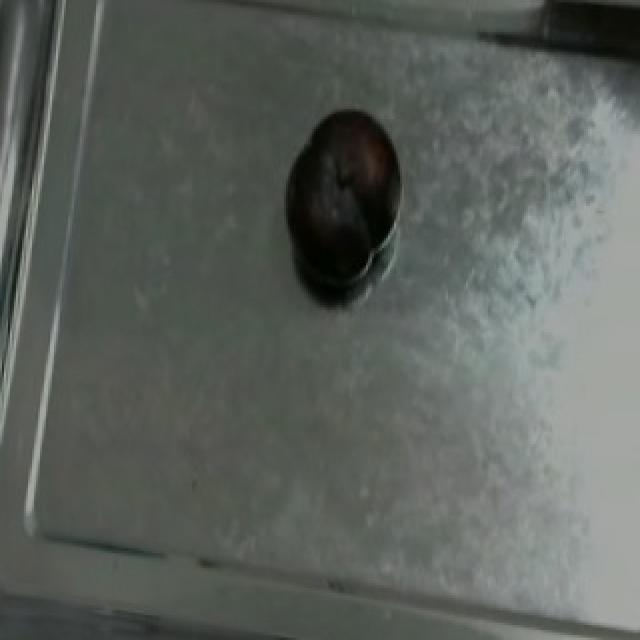Fruit: (274, 94, 410, 298), (526, 0, 640, 72)
